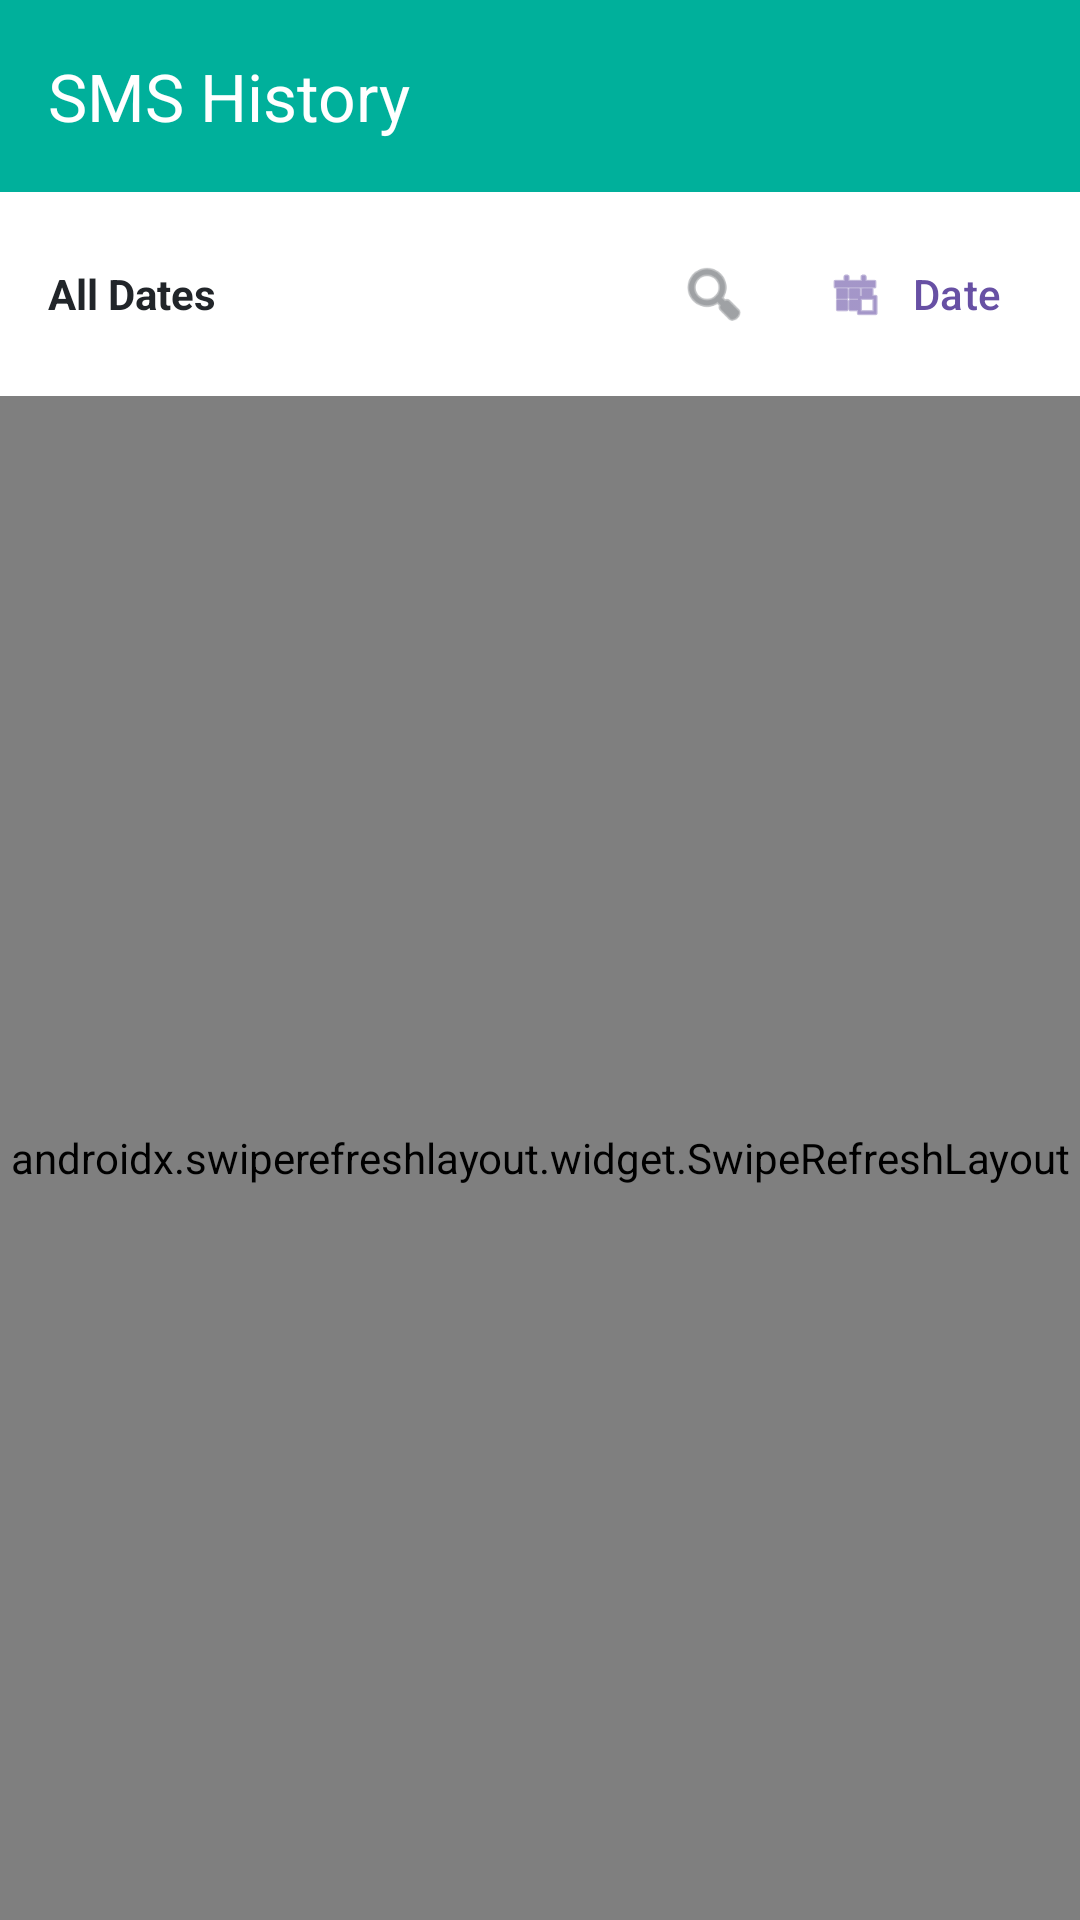

Icons on this 1080px×1920px Android screen, each with its box as (x1, y1, x2, y2):
search: (687, 268, 741, 321)
